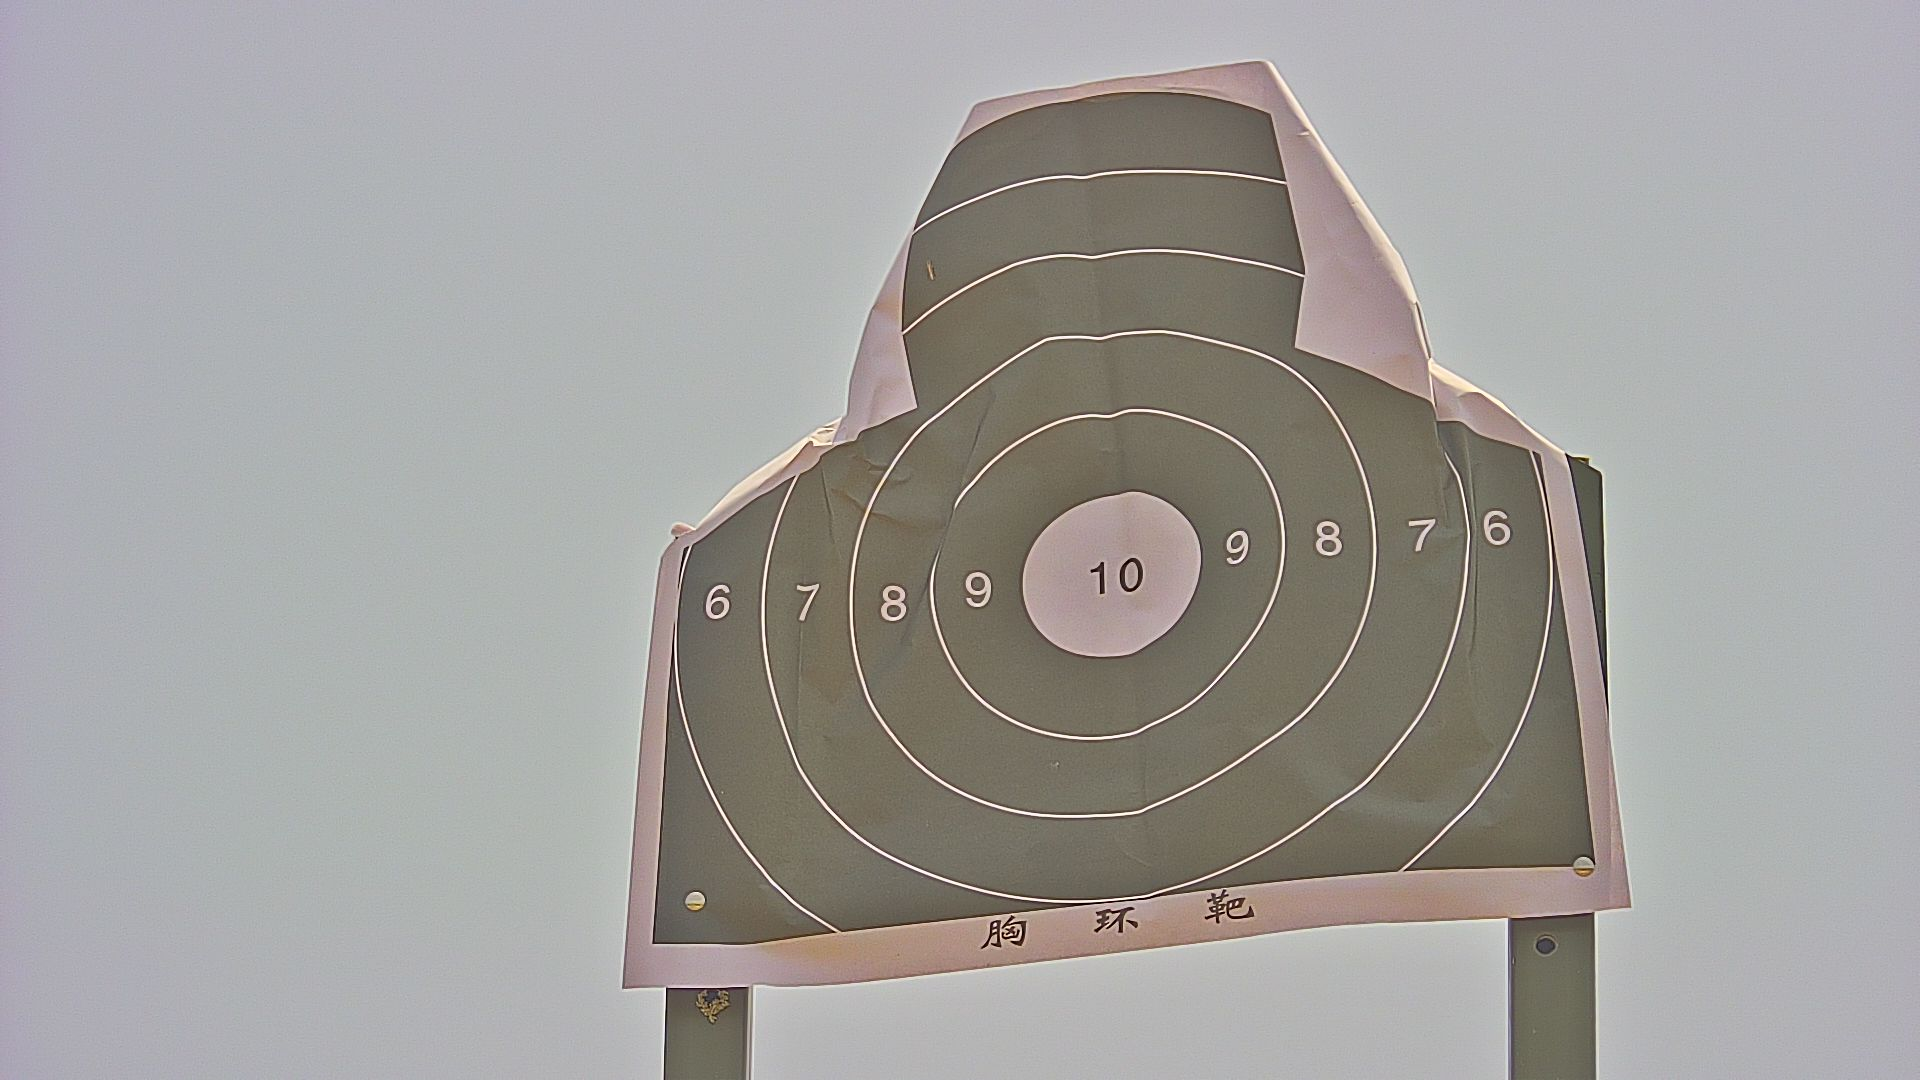kernel: (1112, 578, 1116, 582)
target: (651, 92, 1602, 956)
ten: (1017, 491, 1204, 662)
